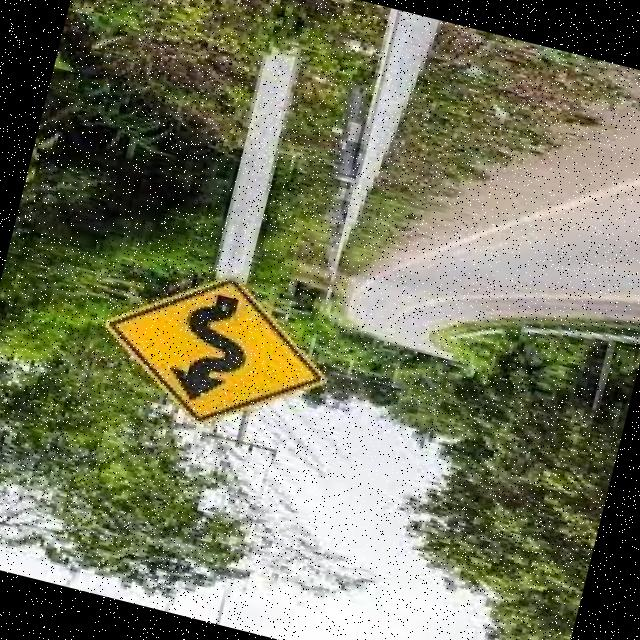left_sharp_curve: (84, 251, 350, 458)
